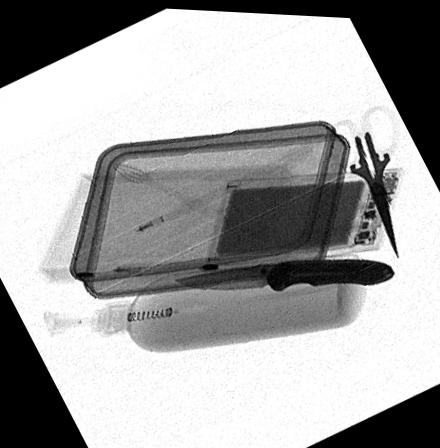Knife: (172, 254, 394, 290)
Powerbank: (202, 158, 406, 268)
Scissors: (320, 99, 401, 254)
